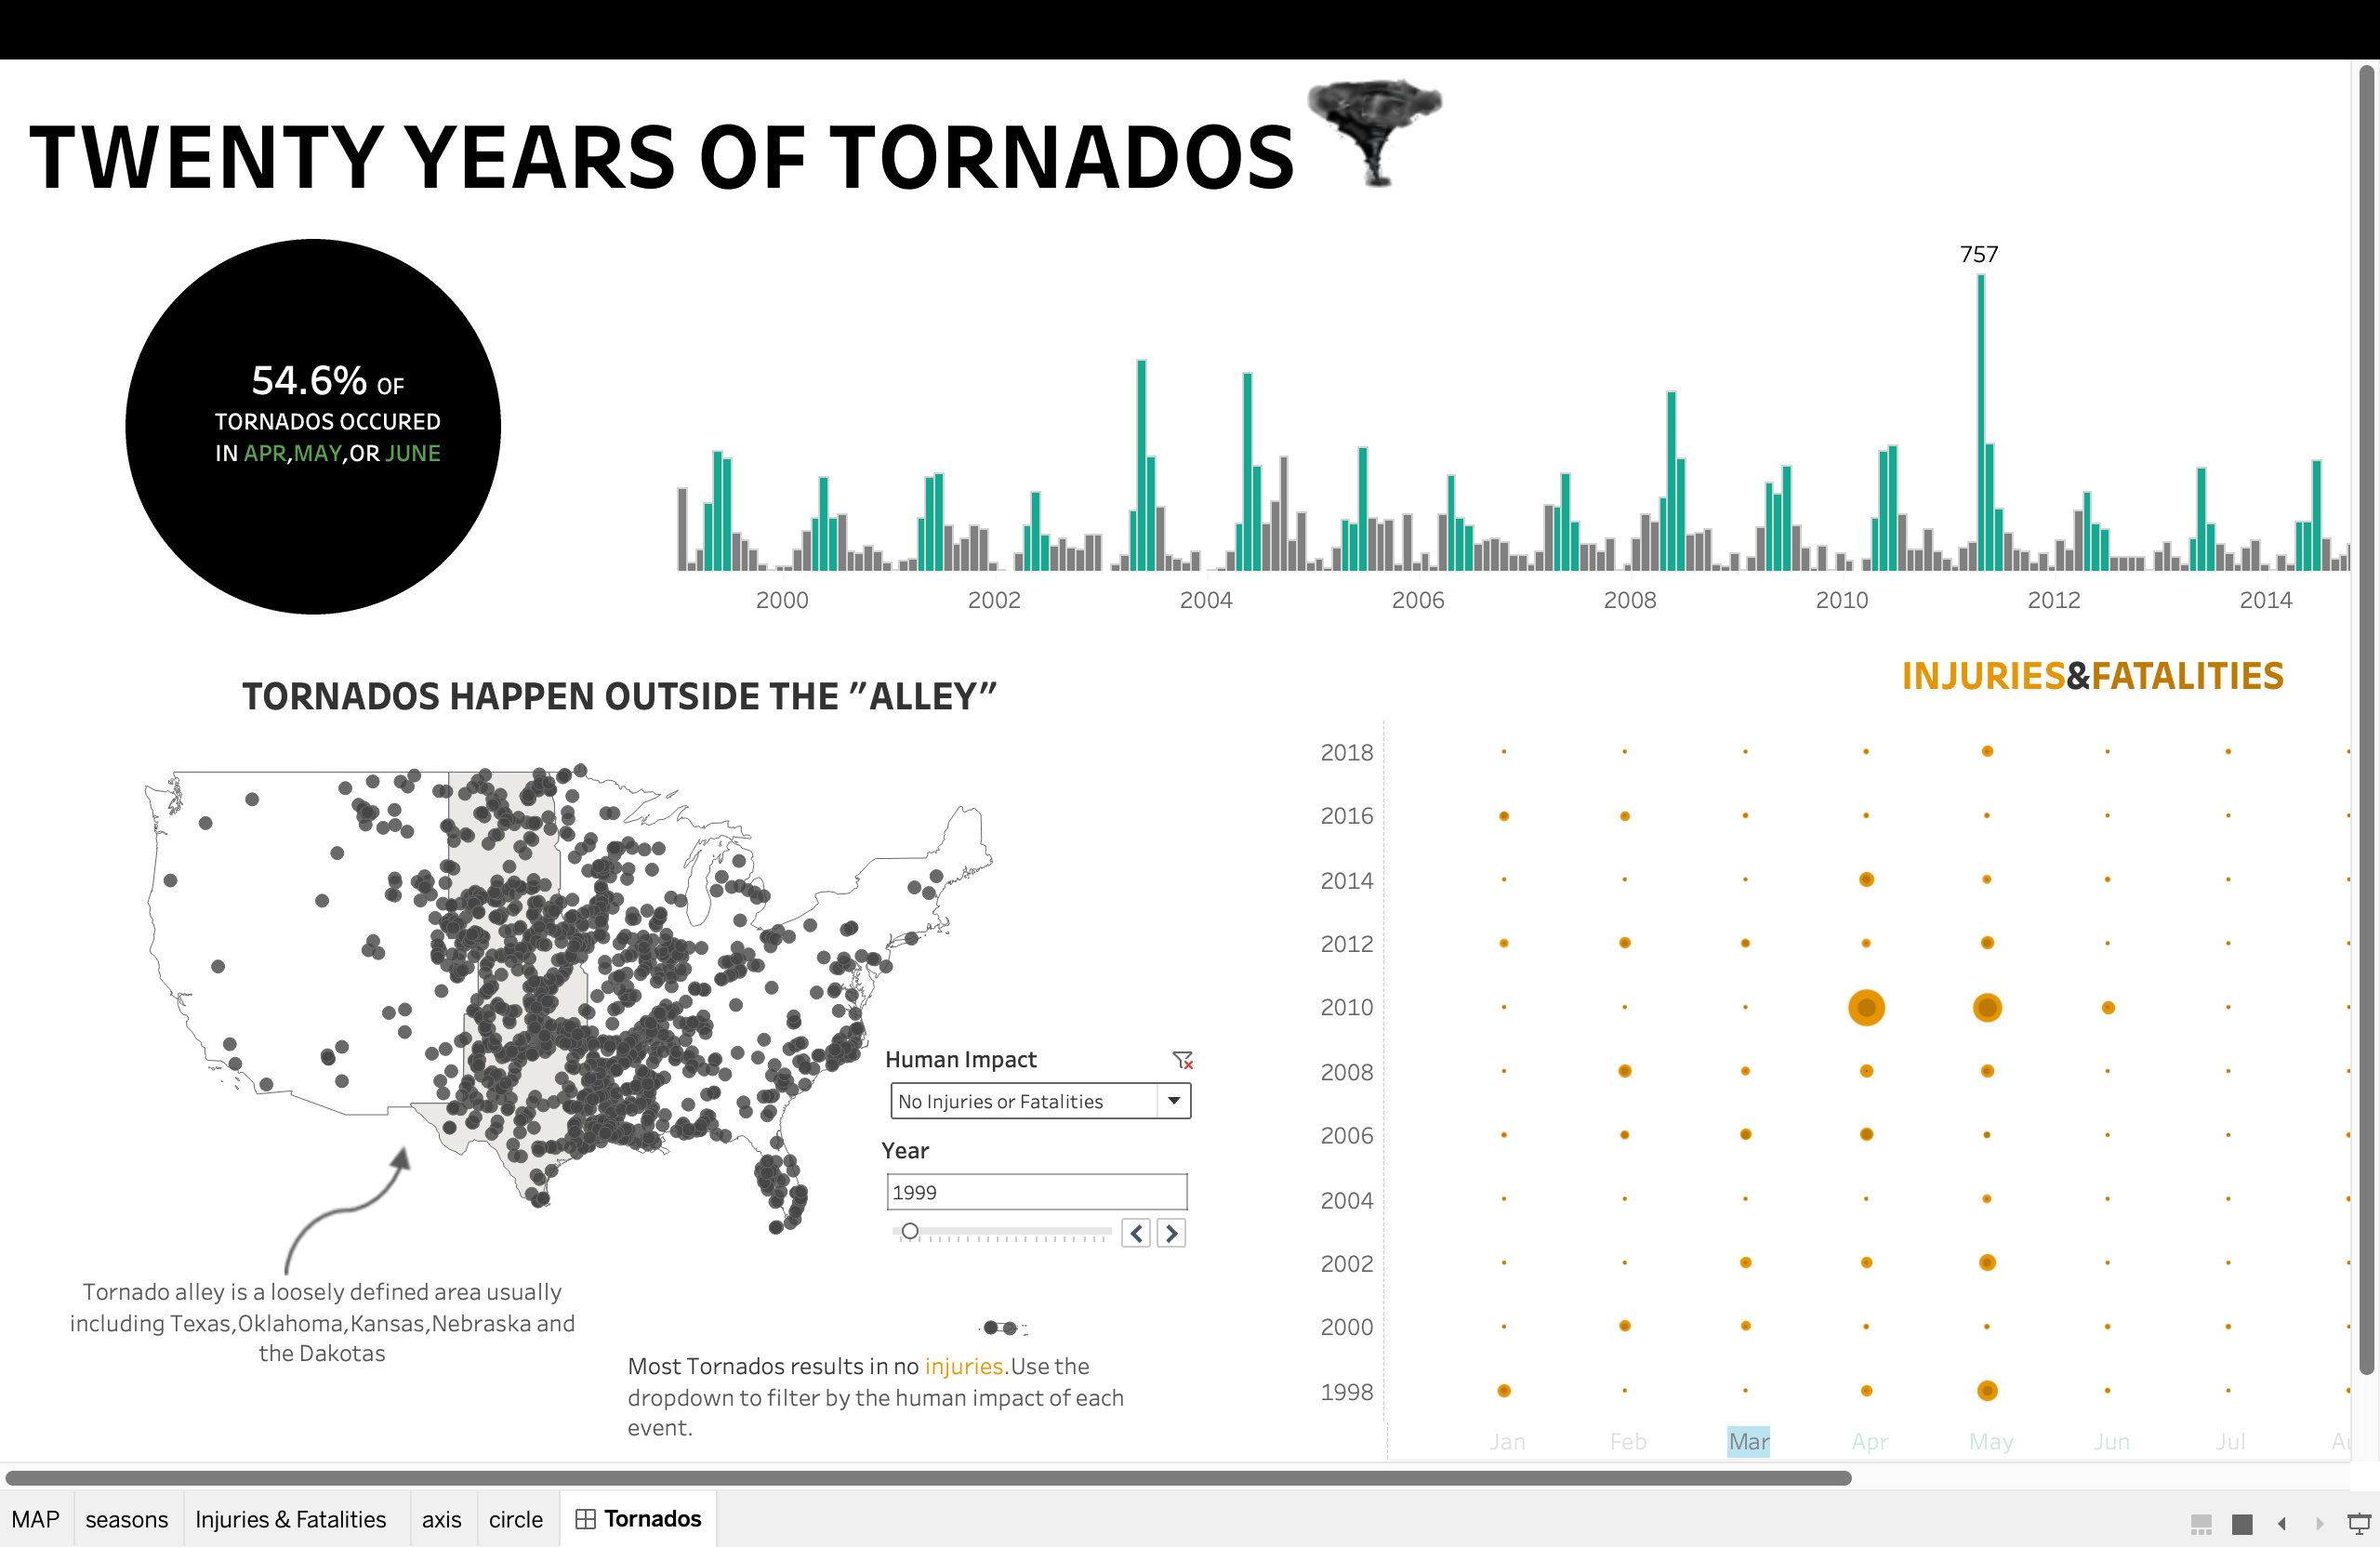

This screenshot's page, from the dashboard's own definition file:
{"tool":"tableau","page":{"name":"Tornados","canvas":[1600,800],"ordinal":0},"visuals":[{"type":"title","box":[8,8,1584,78]},{"type":"image","param":"Image/tornado.png","box":[703,10,74,74]},{"type":"worksheet","title":"circle","mark":"Circle","box":[8,86,321,223.1]},{"type":"worksheet","title":"seasons","mark":"Bar","rows":["Calculation_673358550906773510"],"cols":["date"],"box":[329,86,1263,223.1]},{"type":"text","box":[108,138,137,102]},{"type":"worksheet","title":"MAP","mark":"Automatic","box":[8,309.1,652,482.9]},{"type":"worksheet","title":"Injuries & Fatalities","mark":"Circle","rows":["Year Int (bin)"],"cols":["date","date"],"box":[660,309.1,932,482.9]},{"type":"filter","title":"MAP","param":"[federated.0qa4f5q031j9mt15g9tdw16mf8oy].[none:Calculation_673358550898839557:nk","box":[476,529,168,89]},{"type":"image","param":"Image/arrow.png","box":[153,572,94,82]},{"type":"filter","title":"MAP","param":"[federated.0qa4f5q031j9mt15g9tdw16mf8oy].[yr:date:ok]","box":[474,578,168,75]},{"type":"text","box":[30,634,287,71]},{"type":"text","box":[335,683,281,73]},{"type":"worksheet","title":"axis","mark":"Text","rows":["Year Int (bin)"],"cols":["date"],"box":[746,733,844,60]}]}

Visuals, with their boxes in screenshot pixels (x1, y1, x2, y2):
title: 123/0/2364/54
image: 1106/0/1211/51
"circle" worksheet (Circle marks): 123/54/577/369
"seasons" worksheet (Bar marks): 577/54/2364/369
text: 264/127/458/271
"MAP" worksheet: 123/369/1045/1052
"Injuries & Fatalities" worksheet (Circle marks): 1045/369/2364/1052
"MAP" filter: 785/681/1023/806
image: 328/741/461/857
"MAP" filter: 782/749/1020/855
text: 154/829/560/930
text: 586/898/984/1001
"axis" worksheet (Text marks): 1167/969/2361/1054
